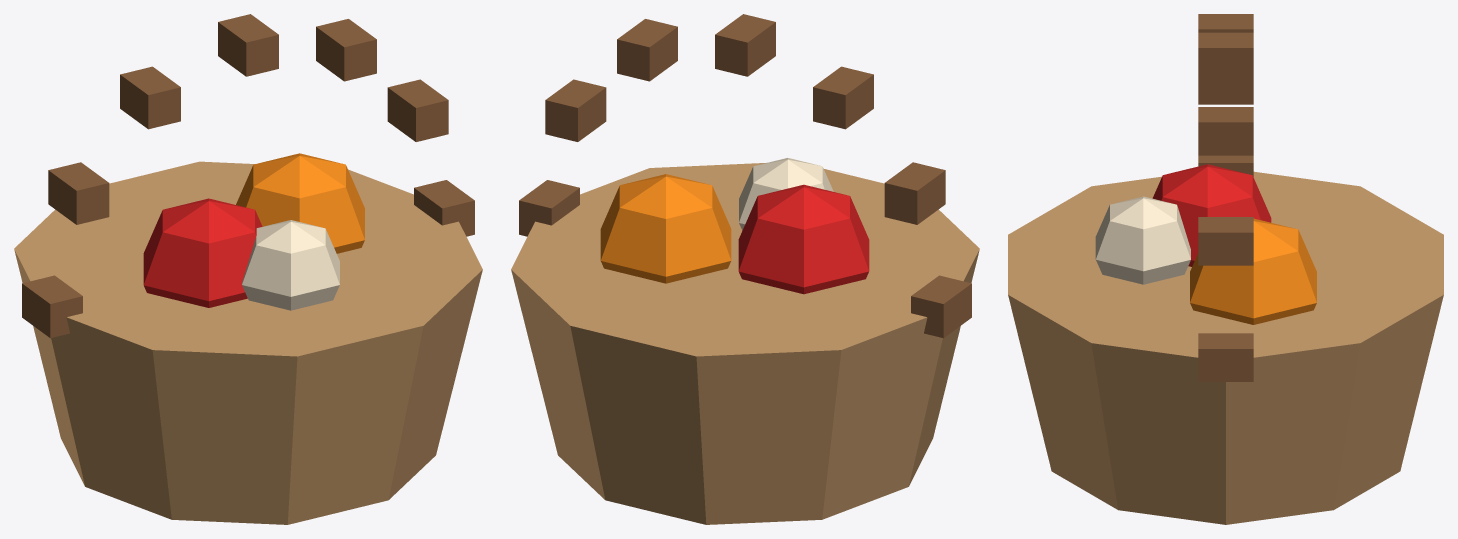
Rendered from basket.obj.
3 views of the same model, side by side, from view 1: azimuth 30°, elevation 25°; view 2: azimuth 150°, elevation 25°; view 3: azimuth 270°, elevation 25° (orthographic). The views are drawn at different scales.
Visible parts, largest first — view 1: item; view 2: item; view 3: item.
Part boxes in pixels (left/top/right/bottom): item: left=14, top=14, right=482, bottom=524; item: left=511, top=14, right=979, bottom=524; item: left=1008, top=14, right=1443, bottom=524.
Size of the model in its own units: 0.52 by 0.49 by 0.4756.
